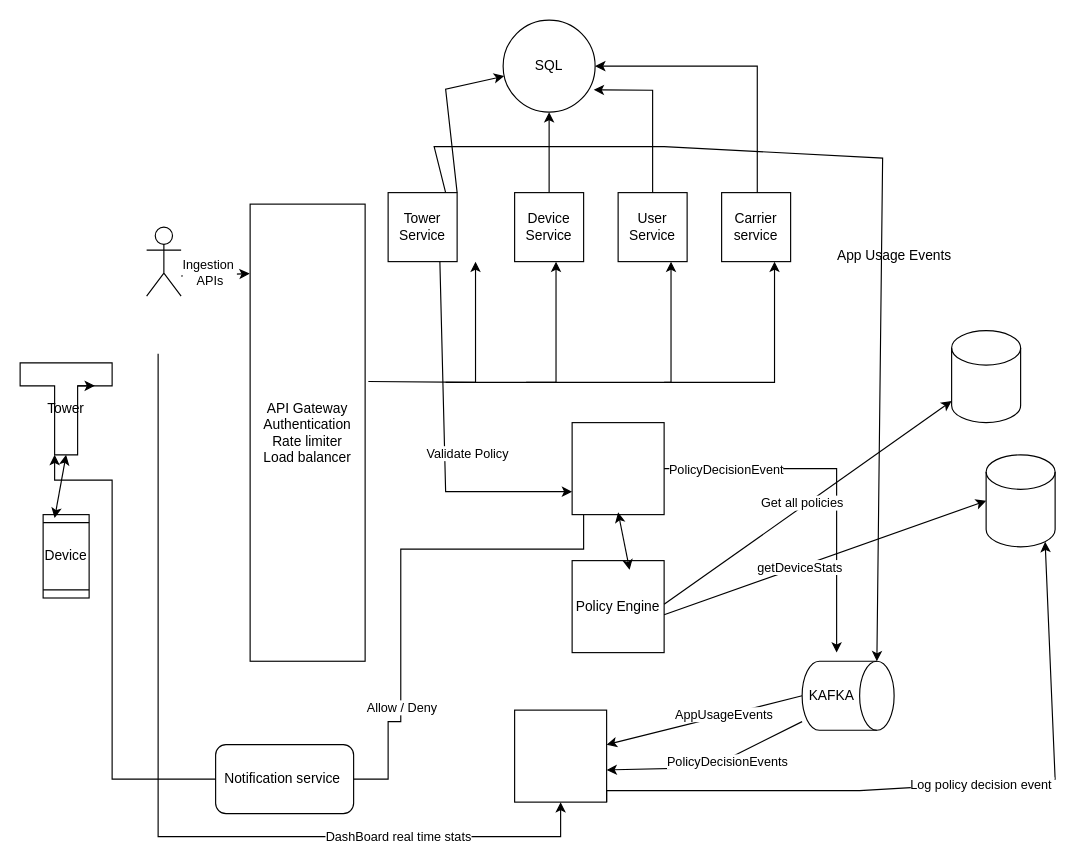
Image size: 1084x866. Some labels were removed from this diagram. The centre of each missing label's shape, as x and y in pixels:
"Admin & Enterprise" belongs at point 163,261.
"Analytics and monitoring" belongs at point 560,755.
"Elastic search" belongs at point 1020,500.
"Policy db" belongs at point 985,376.
"Policy Service" belongs at point 617,468.
